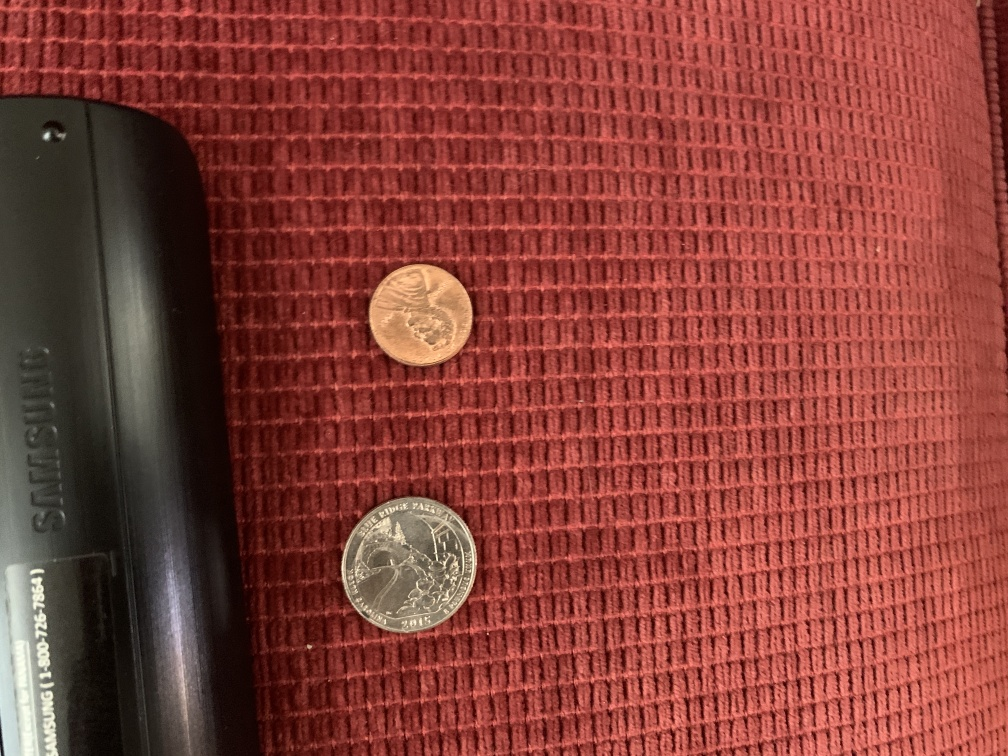penny: (364, 261, 477, 371)
quarter: (339, 491, 482, 639)
